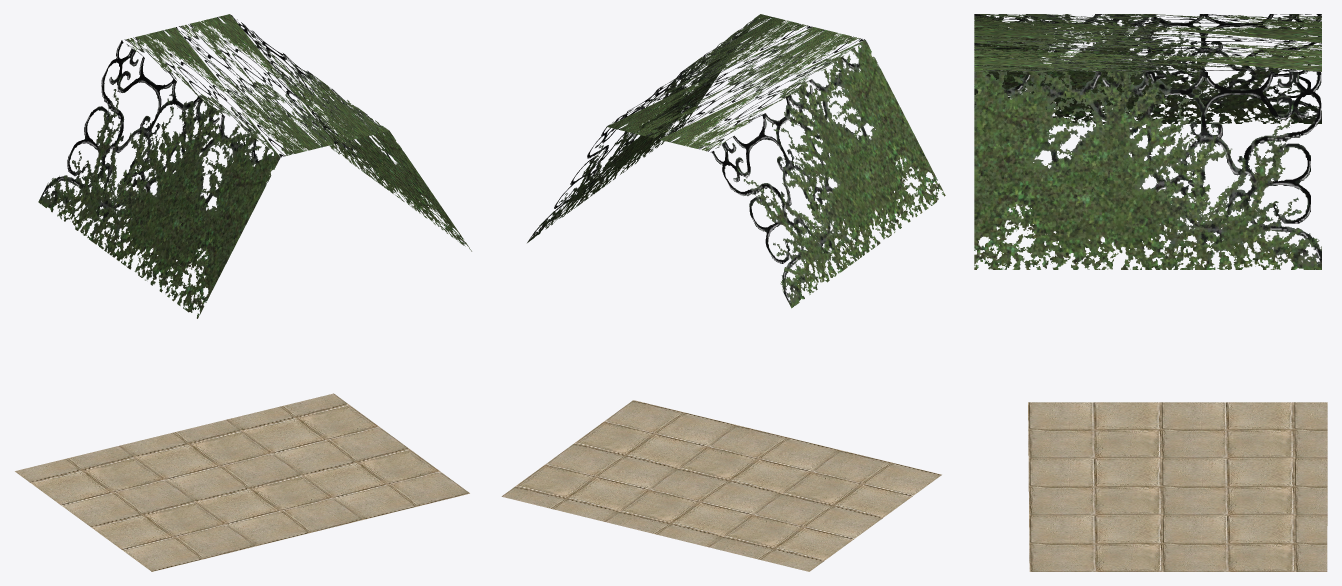
File: thm_nboo_imprv_arbor_short_s02_l2.fbx
The picture shows the model from 3 angles, left to right: view 1: azimuth 30°, elevation 25°; view 2: azimuth 150°, elevation 25°; view 3: azimuth 270°, elevation 25°; orthographic projection. The views are drawn at different scales.
Visible parts, largest first — view 1: mesh_node; view 2: mesh_node; view 3: mesh_node.
Boxes of the visible parts, x1=… form: mesh_node: x1=15, y1=14, x2=471, y2=571; mesh_node: x1=501, y1=14, x2=945, y2=571; mesh_node: x1=974, y1=14, x2=1327, y2=571.
Size of the model in its own units: 4.04 by 4.92 by 3.56.
2 materials, 2 textured.
